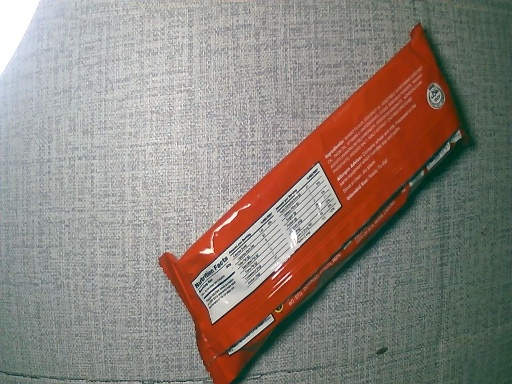plastic: (158, 21, 474, 384)
